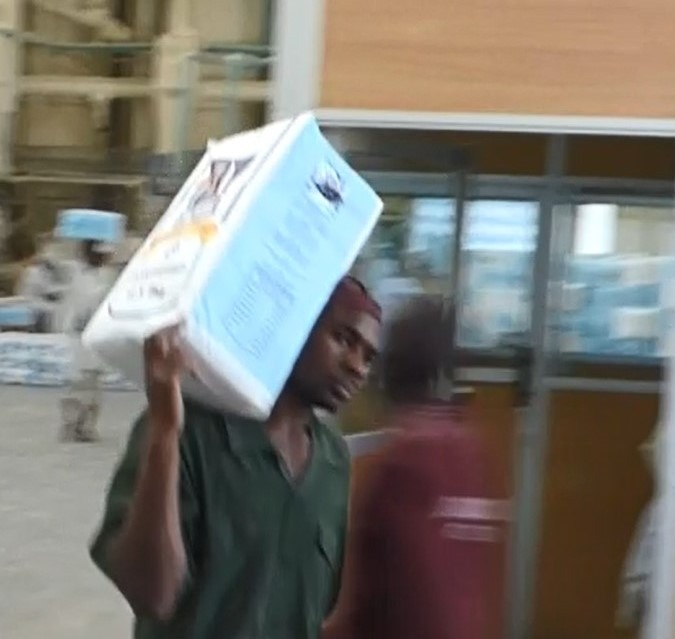wheat_flour_blue_label: (90, 115, 380, 411)
